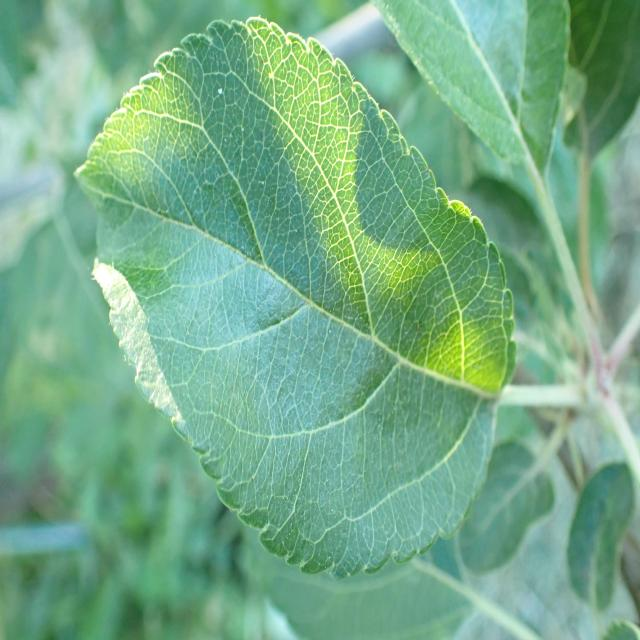healthy: (74, 16, 516, 579), (370, 0, 570, 175)
